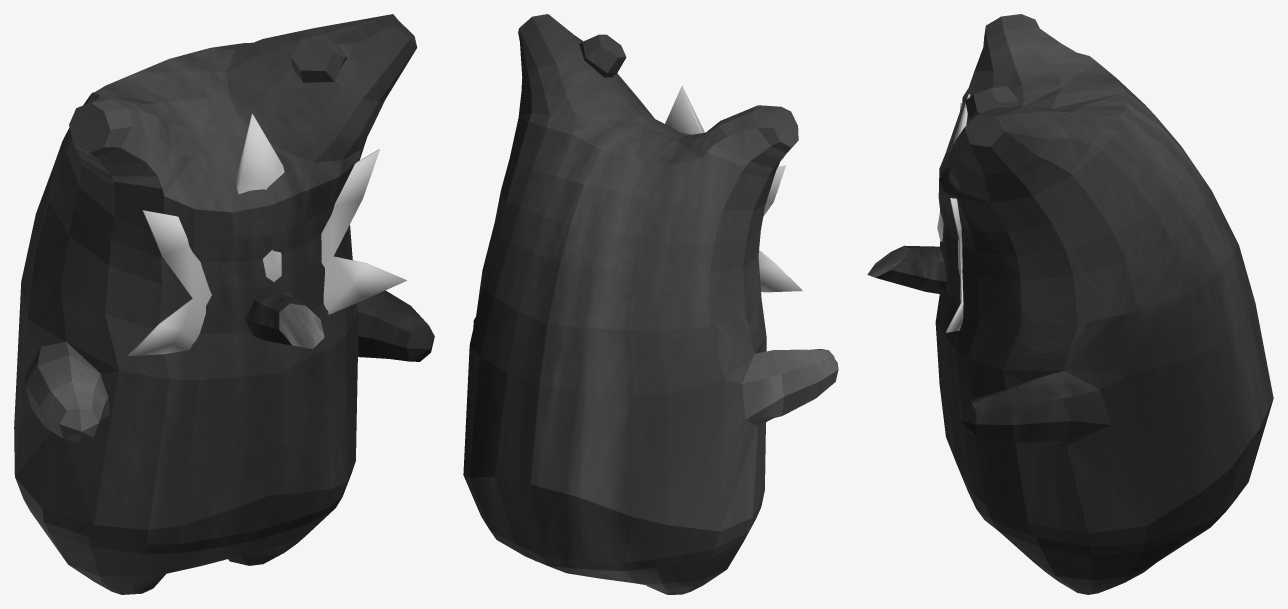
File: frame_0010.obj
3 views of the same model, side by side, from view 1: azimuth 30°, elevation 25°; view 2: azimuth 150°, elevation 25°; view 3: azimuth 270°, elevation 25° (orthographic). The views are drawn at different scales.
Visible parts, largest first — view 1: korok, leaf, nose.003_柱体.011; view 2: korok, leaf; view 3: korok, nose.003_柱体.011, leaf.
Boxes of the visible parts, left/top/right/bottom form: korok: left=14, top=14, right=434, bottom=594; leaf: left=128, top=114, right=406, bottom=356; nose.003_柱体.011: left=245, top=291, right=324, bottom=349; korok: left=463, top=14, right=838, bottom=594; leaf: left=665, top=86, right=802, bottom=292; korok: left=935, top=14, right=1273, bottom=594; nose.003_柱体.011: left=867, top=245, right=947, bottom=294; leaf: left=937, top=94, right=970, bottom=332.
Size of the model in its own units: 1.43 by 2.05 by 1.47.
